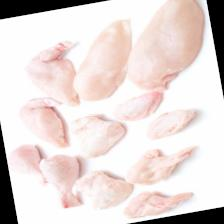chicken: (113, 0, 213, 96), (62, 16, 142, 104), (20, 38, 81, 113), (120, 140, 204, 188), (15, 93, 70, 154), (66, 108, 130, 160), (70, 163, 136, 213), (36, 150, 87, 210), (118, 181, 196, 220), (140, 104, 198, 140), (109, 88, 167, 123), (4, 142, 46, 190)
